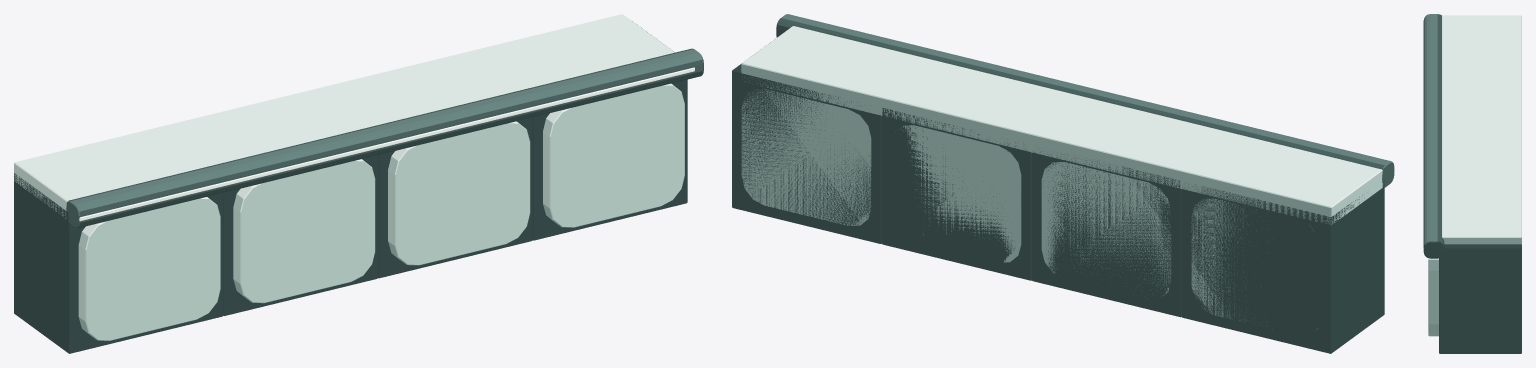
Rendered from Terrain_TopRun4R.gltf.
3 views of the same model, side by side, from view 1: azimuth 30°, elevation 25°; view 2: azimuth 150°, elevation 25°; view 3: azimuth 270°, elevation 25° (orthographic). The views are drawn at different scales.
Visible parts, largest first — view 1: Terrain_TopRun4R_baked; view 2: Terrain_TopRun4R_baked; view 3: Terrain_TopRun4R_baked.
Part boxes in pixels (bbox=[...]): Terrain_TopRun4R_baked: bbox=[14, 14, 703, 353]; Terrain_TopRun4R_baked: bbox=[732, 14, 1394, 353]; Terrain_TopRun4R_baked: bbox=[1423, 14, 1521, 353].
Bounding box in the file's own units: 4.04 × 0.9495 × 0.74.
